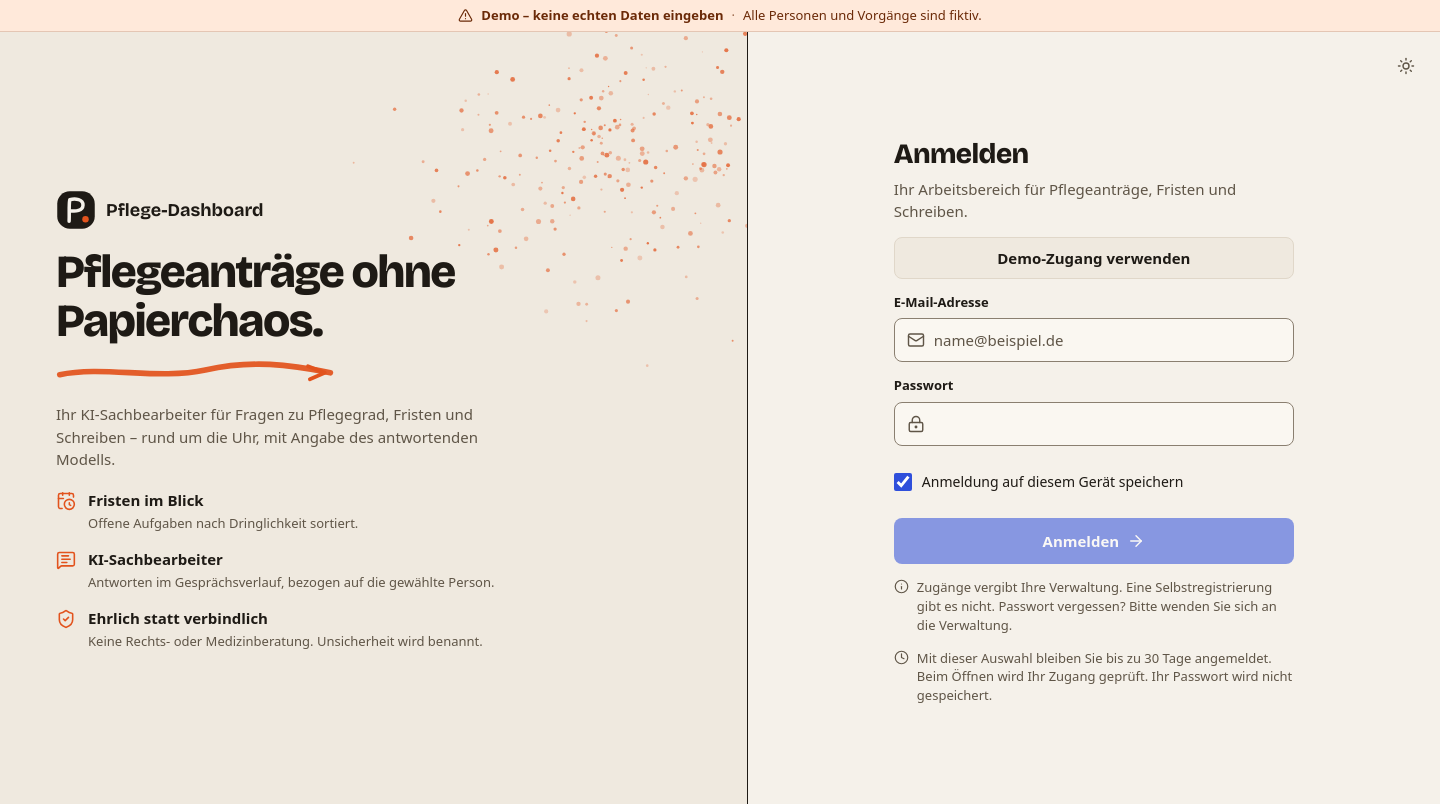
it: Sachbearbeiter-Test: angemeldete Arbeitsansicht › Direktlink führt durch echte App-Sitzung; Sichtwechsel erhält Rolle und Daten
Type "pruefung@beispiel.invalid" into the field labelled "E-Mail-Adresse".
click(1107, 340); type("pruefung@beispiel.invalid")  # box [934, 320, 1281, 362]
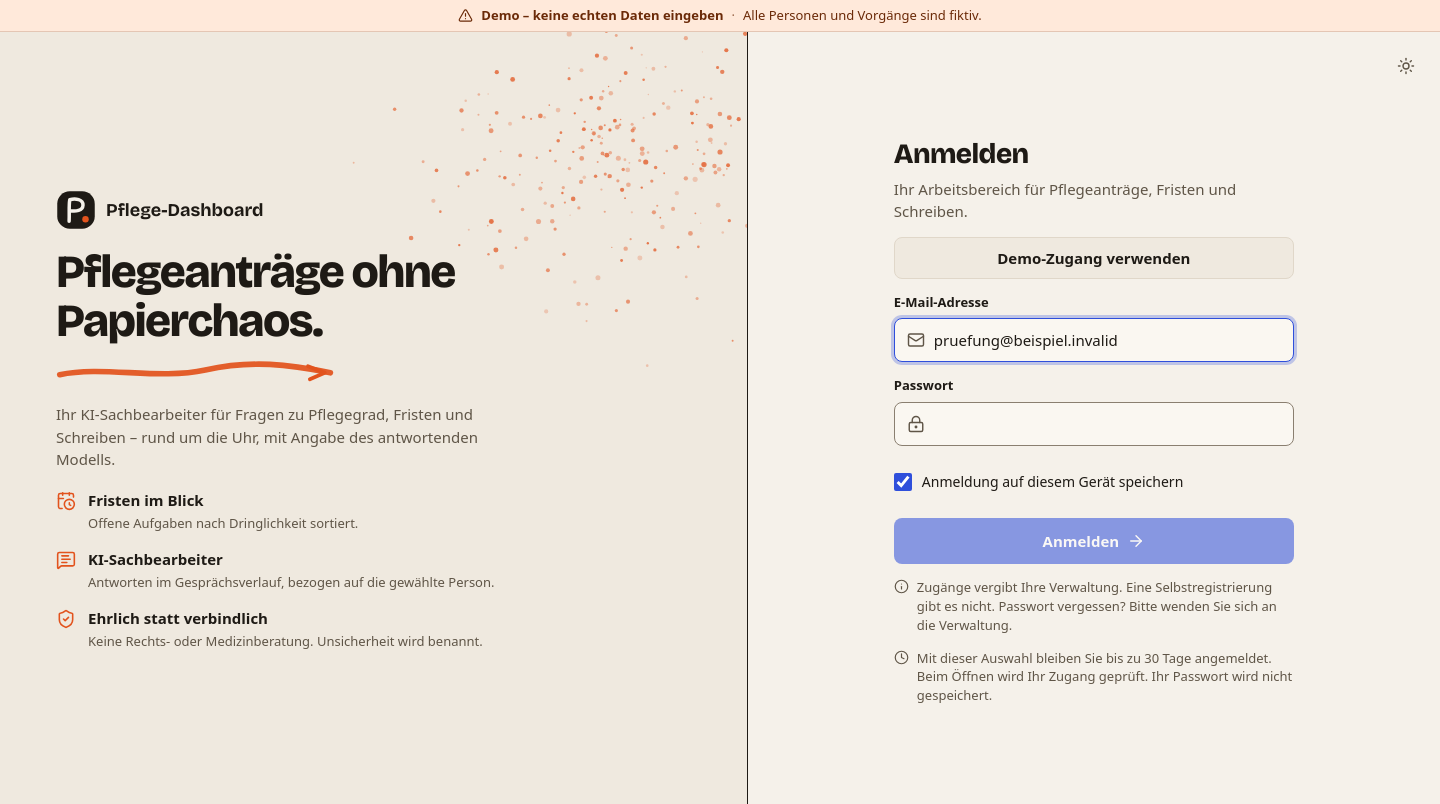
Type "nur-synthetisch" into the password field labelled "Passwort".
click(1107, 424); type("nur-synthetisch")  # box [934, 403, 1281, 445]
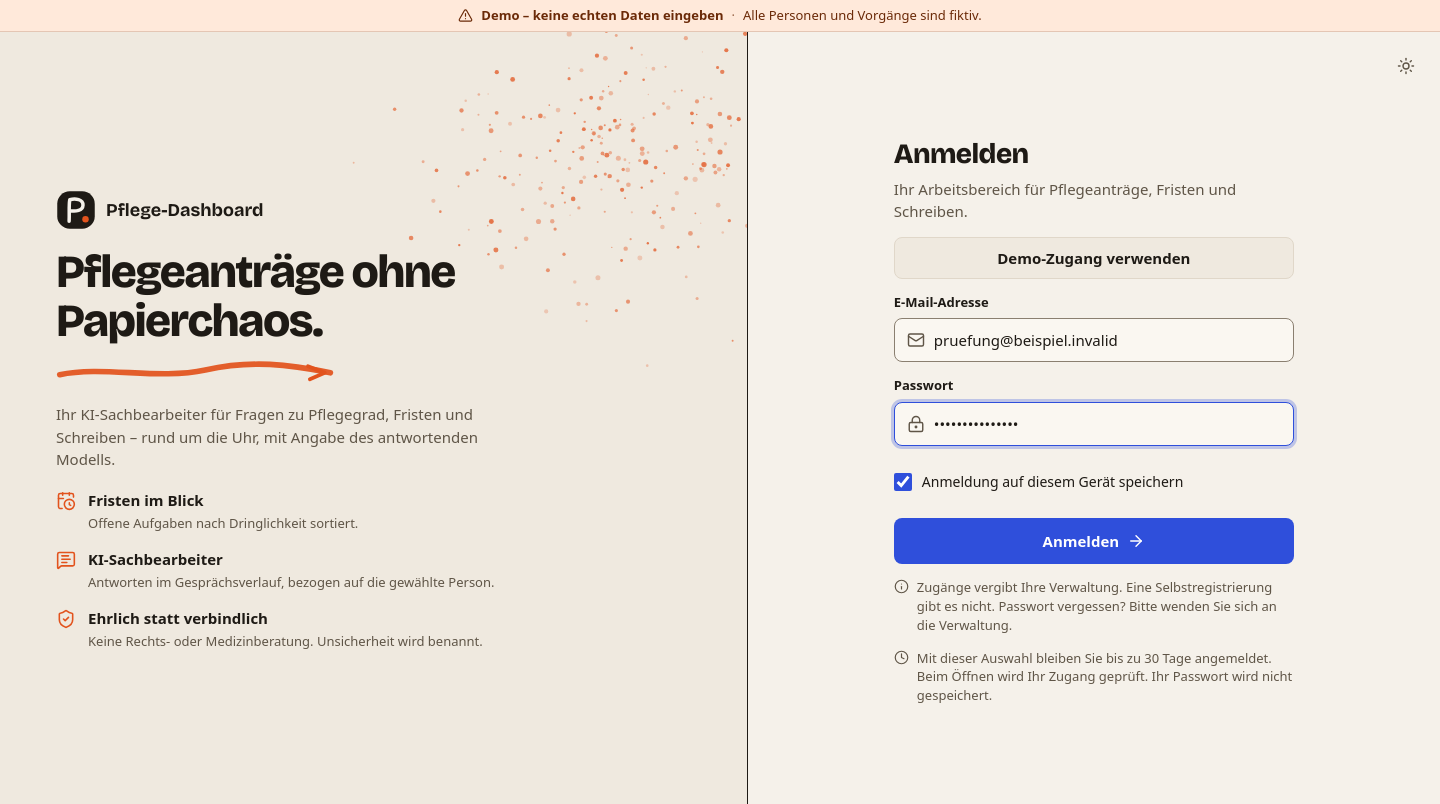
Click the checkbox labelled "Anmeldung auf diesem Gerät speichern".
click(903, 482)  # box [894, 473, 912, 491]
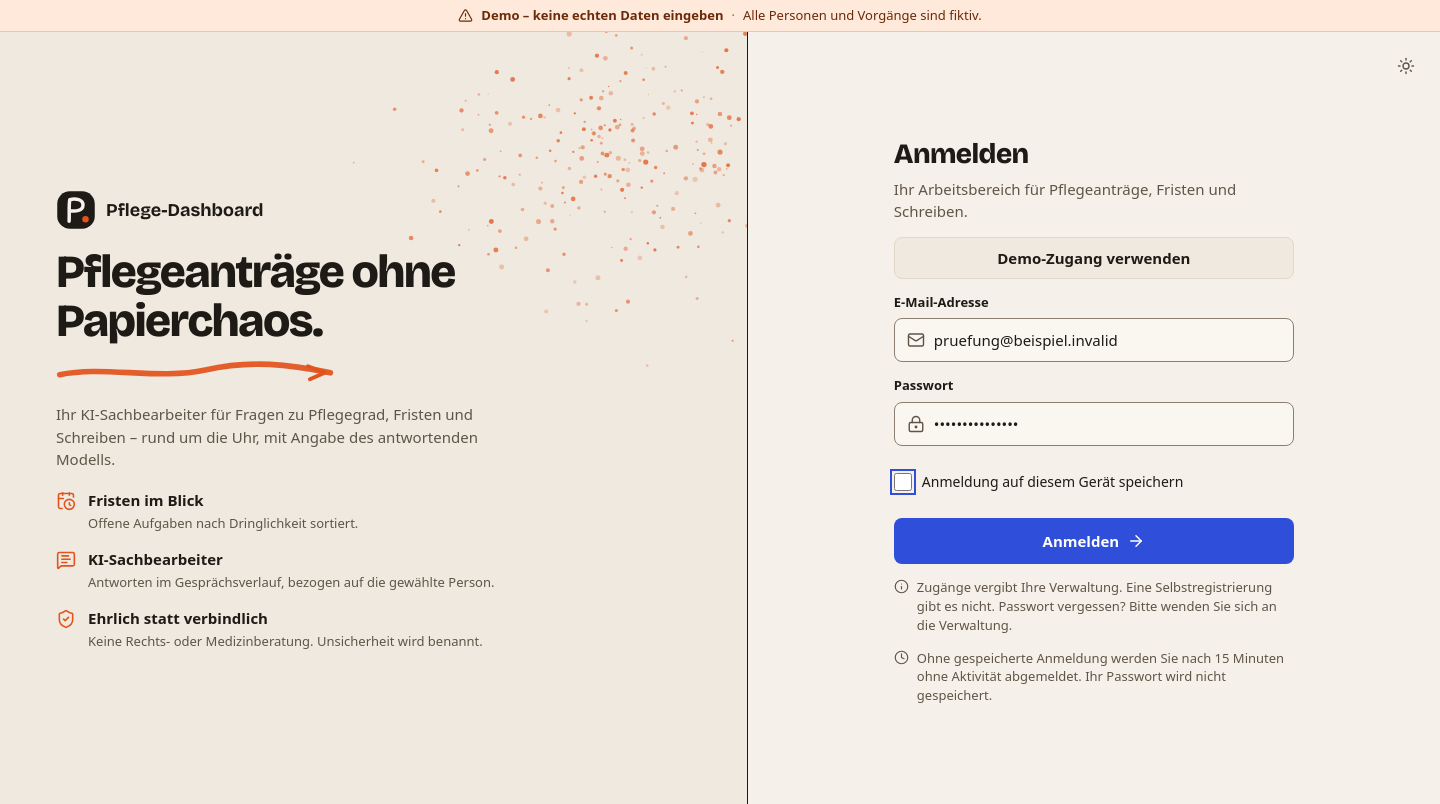
Click the button "Anmelden".
click(1094, 541)  # box [894, 518, 1294, 564]
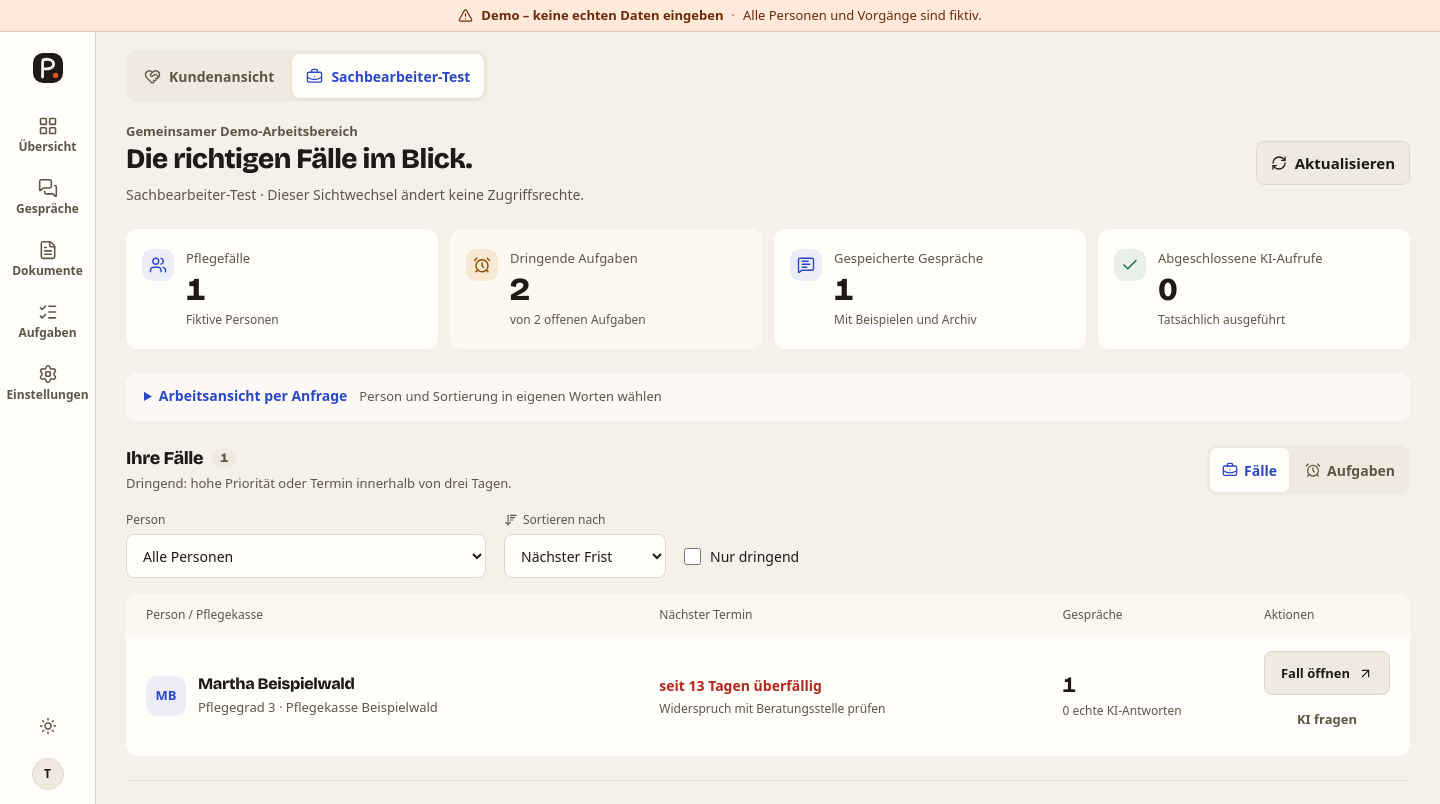
Expected: the heading "Die richtigen Fälle im Blick." is shown, [126, 142, 472, 176]
Expected: the text "ändert keine Zugriffsrechte" is shown, [126, 184, 584, 204]
Click the link "Kundenansicht".
click(209, 76)  # box [144, 66, 274, 86]
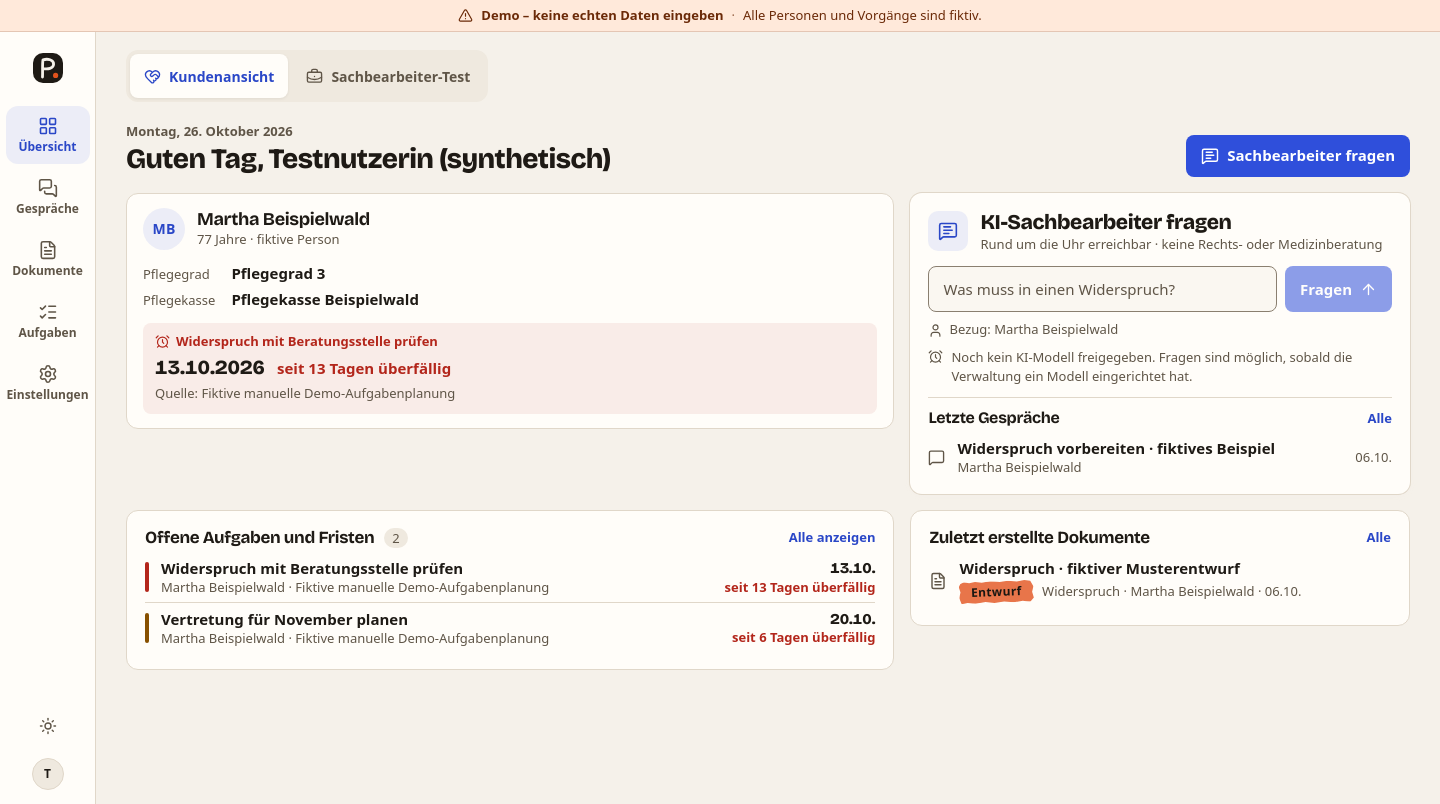
Expected: the heading "Guten Tag, Testnutzerin (synthetisch)" is shown, [126, 142, 611, 176]
Click the link "Sachbearbeiter-Test".
click(388, 76)  # box [306, 66, 470, 86]
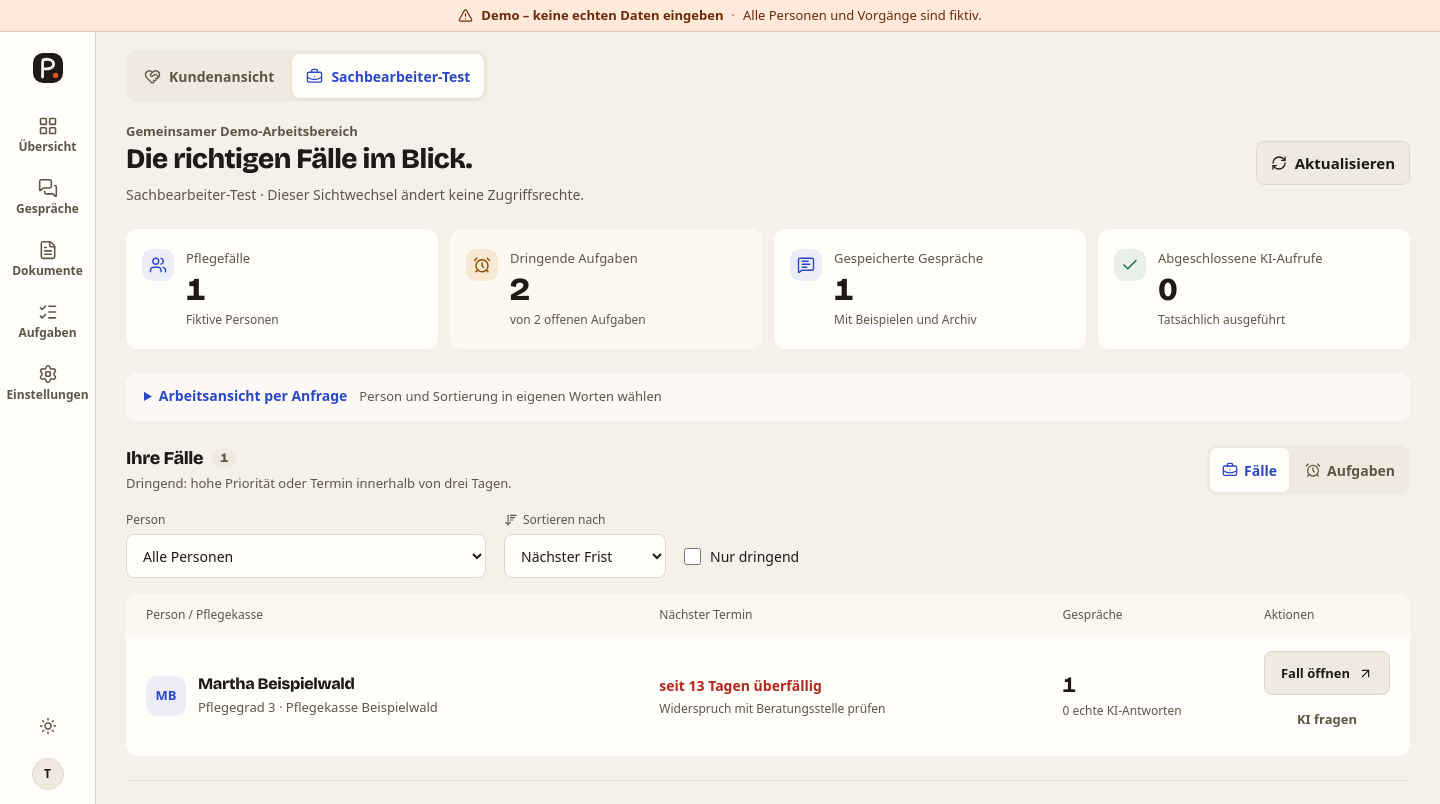
Expected: the heading "Die richtigen Fälle im Blick." is shown, [126, 142, 472, 176]
